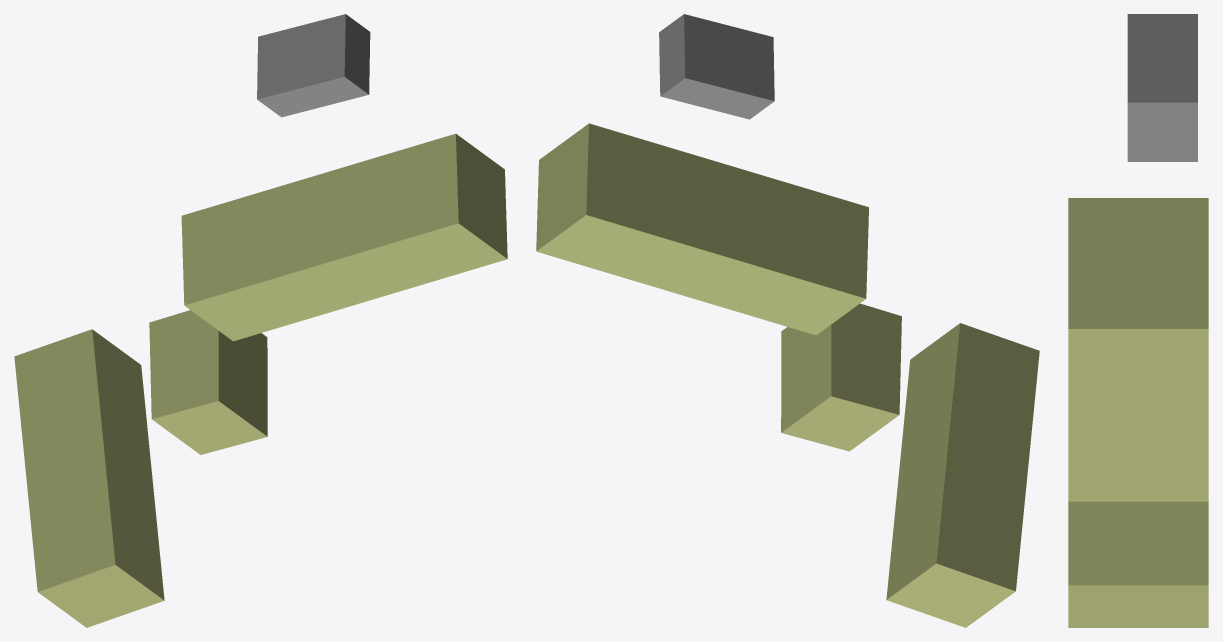
The picture shows the model from 3 angles, left to right: view 1: azimuth 30°, elevation 25°; view 2: azimuth 150°, elevation 25°; view 3: azimuth 270°, elevation 25°; orthographic projection. The views are drawn at different scales.
Visible parts, largest first — view 1: 0_2_2_0_3_0_1_3_0; view 2: 0_2_2_0_3_0_1_3_0; view 3: 0_2_2_0_3_0_1_3_0.
Part boxes in pixels (x1=…): 0_2_2_0_3_0_1_3_0: x1=14, y1=14, x2=507, y2=627; 0_2_2_0_3_0_1_3_0: x1=536, y1=14, x2=1039, y2=627; 0_2_2_0_3_0_1_3_0: x1=1068, y1=14, x2=1208, y2=627.
Size of the model in its own units: 31.38 by 34.19 by 6.
